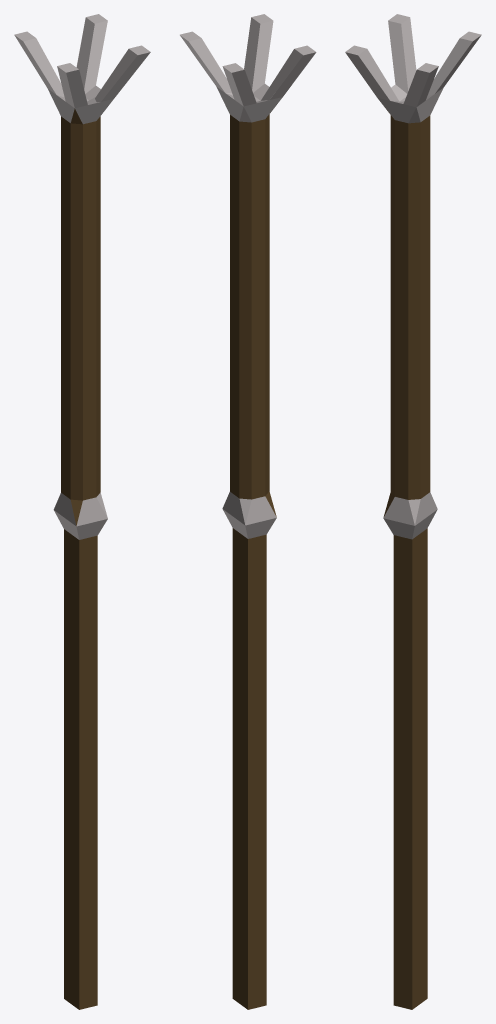
Rendered from torchstanding.fbx.
3 renders of one model, left to right at view 1: azimuth 30°, elevation 25°; view 2: azimuth 210°, elevation 25°; view 3: azimuth 330°, elevation 25°, orthographic.
Visible parts, largest first — view 1: torchstanding; view 2: torchstanding; view 3: torchstanding.
Boxes of the visible parts, x1,y1,x2,y2 form: torchstanding: [14, 14, 150, 1009]; torchstanding: [180, 14, 316, 1009]; torchstanding: [345, 14, 481, 1009].
Size of the model in its own units: 43.45 by 469 by 46.22.
